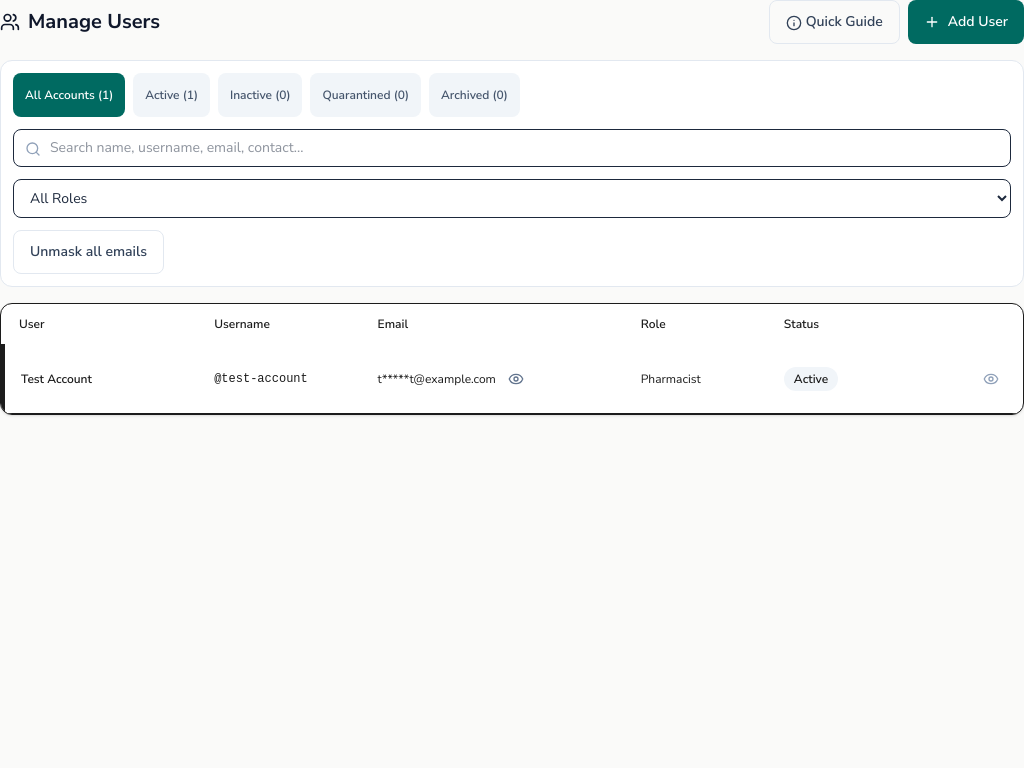
editing user roles from account details › opens the Pharmacist editor and preserves its role when saving account details
The width and height of the screenshot is (1024, 768).
Click the text "Test Account". click: (513, 378)
box: [3, 344, 1023, 412]
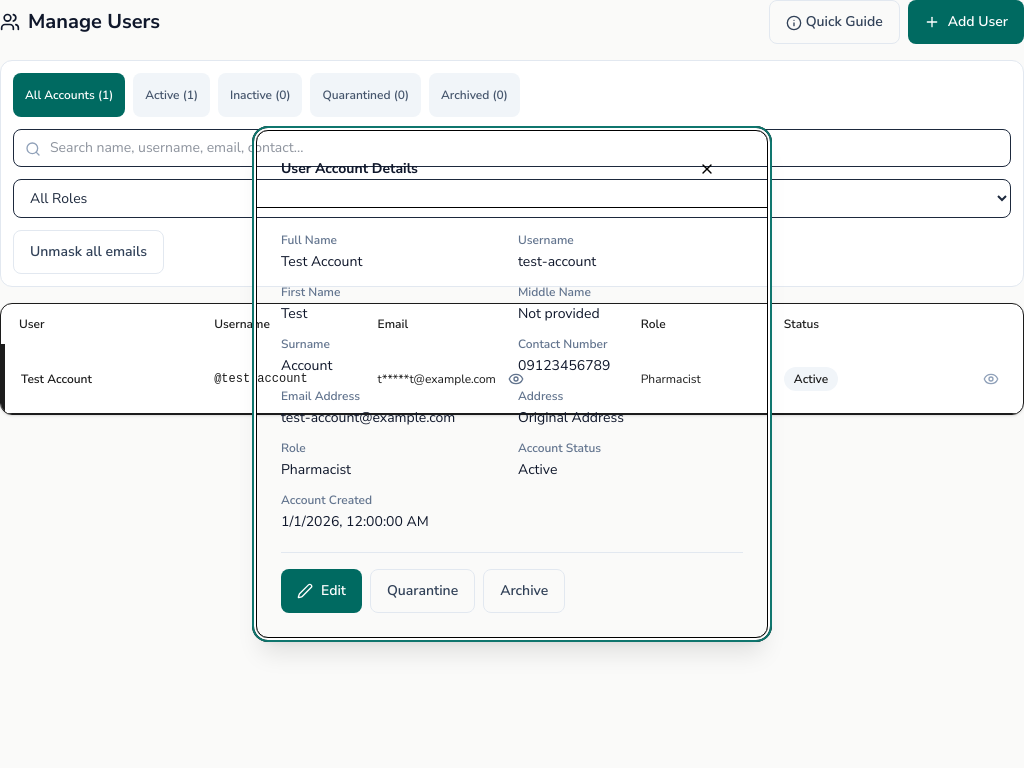
Click the button "Edit". click: (322, 591)
box: [281, 569, 362, 613]
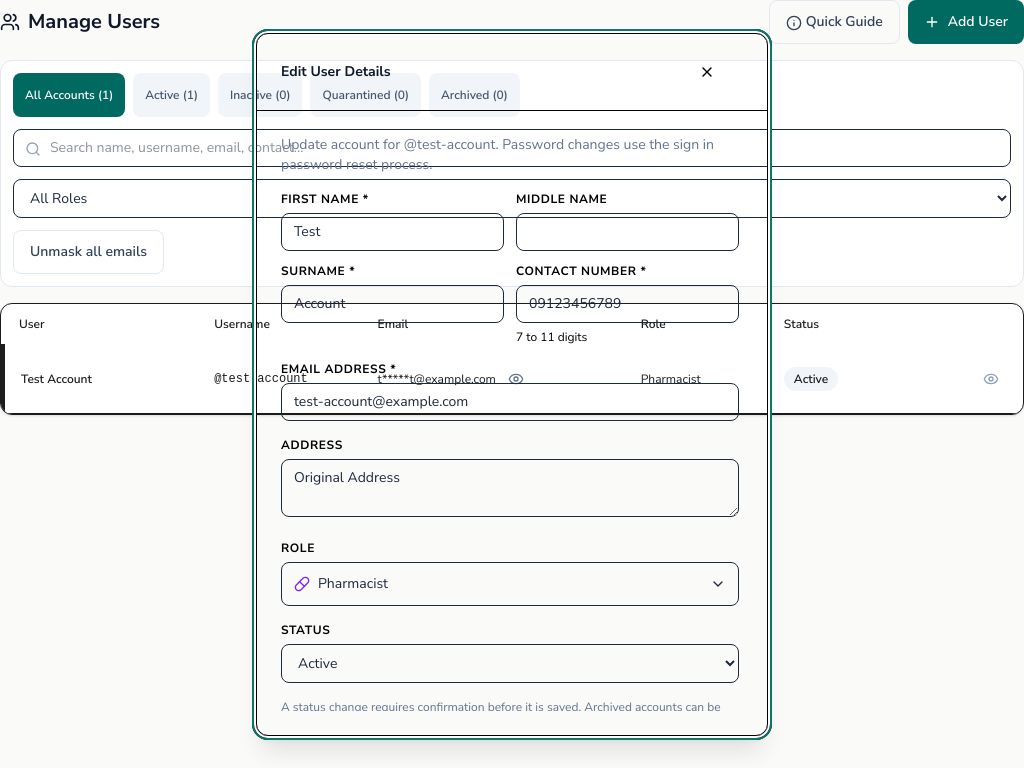
Now the button "Pharmacist" is shown, box [281, 562, 739, 606]
Now the heading "Edit User Details" is shown, box [281, 62, 390, 82]
Now the heading "User Account Details" is gone
Replace the text in the field labelled "First Name *" with "Updated". click: (392, 232)
box: [281, 212, 504, 250]
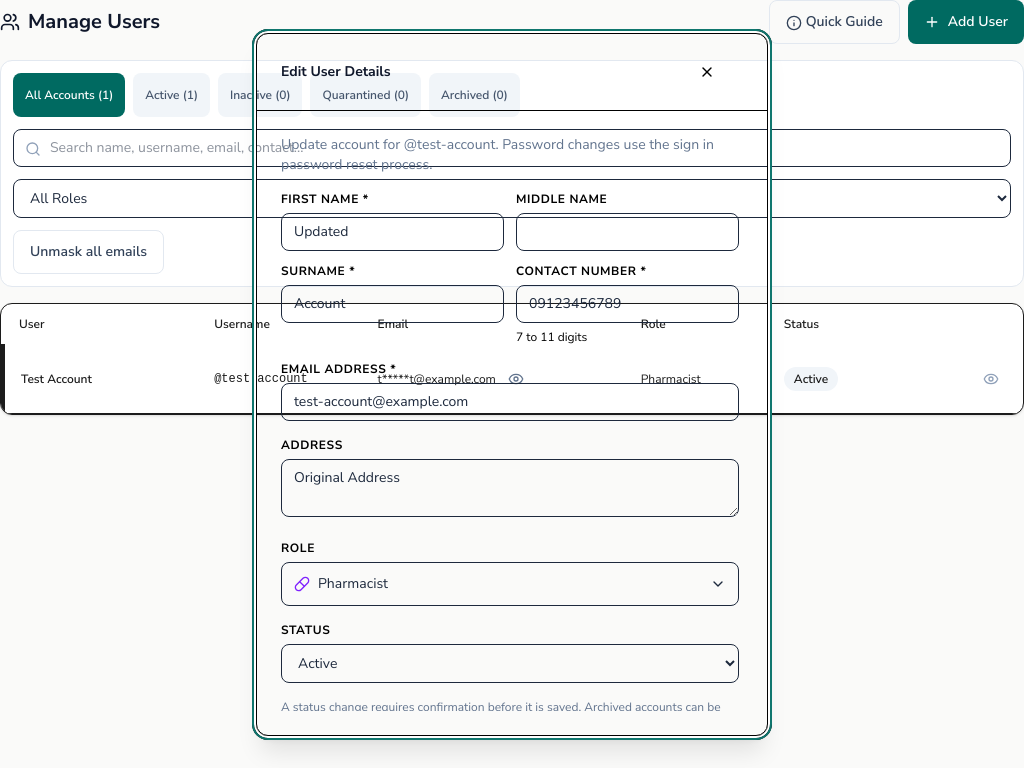
Replace the text in the field showing "test-account@example.com" with "updated@example.com". click: (510, 402)
box: [281, 382, 739, 420]
(page scrolled)
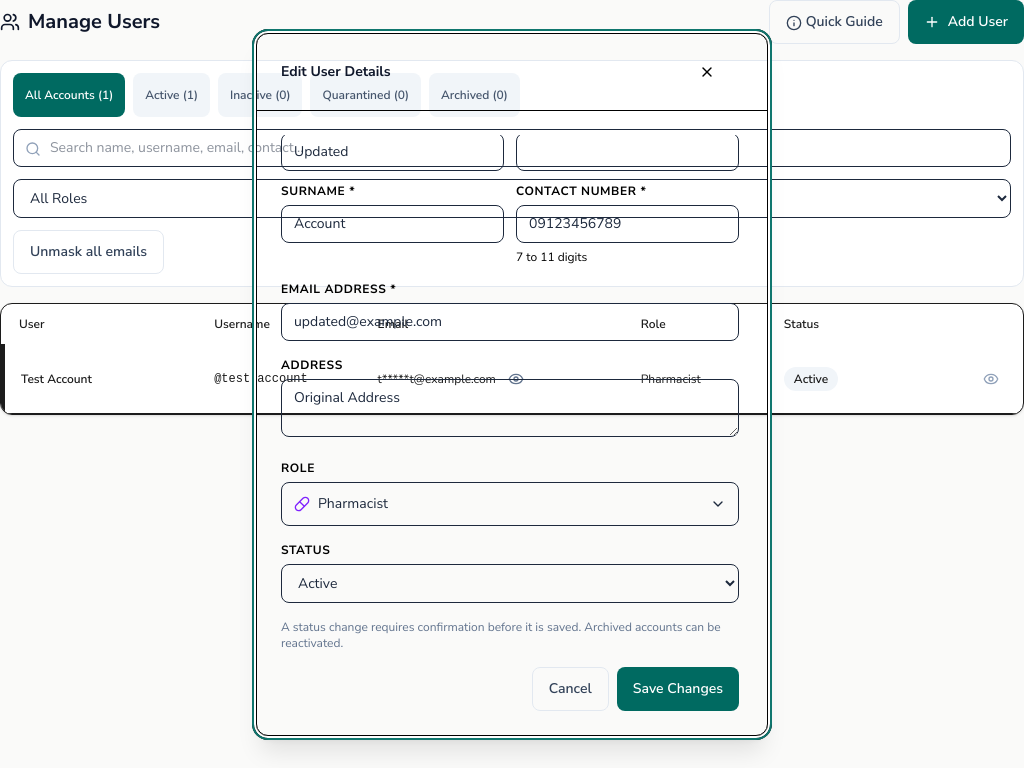
Click the button "Save Changes". click: (678, 688)
box: [617, 666, 739, 710]
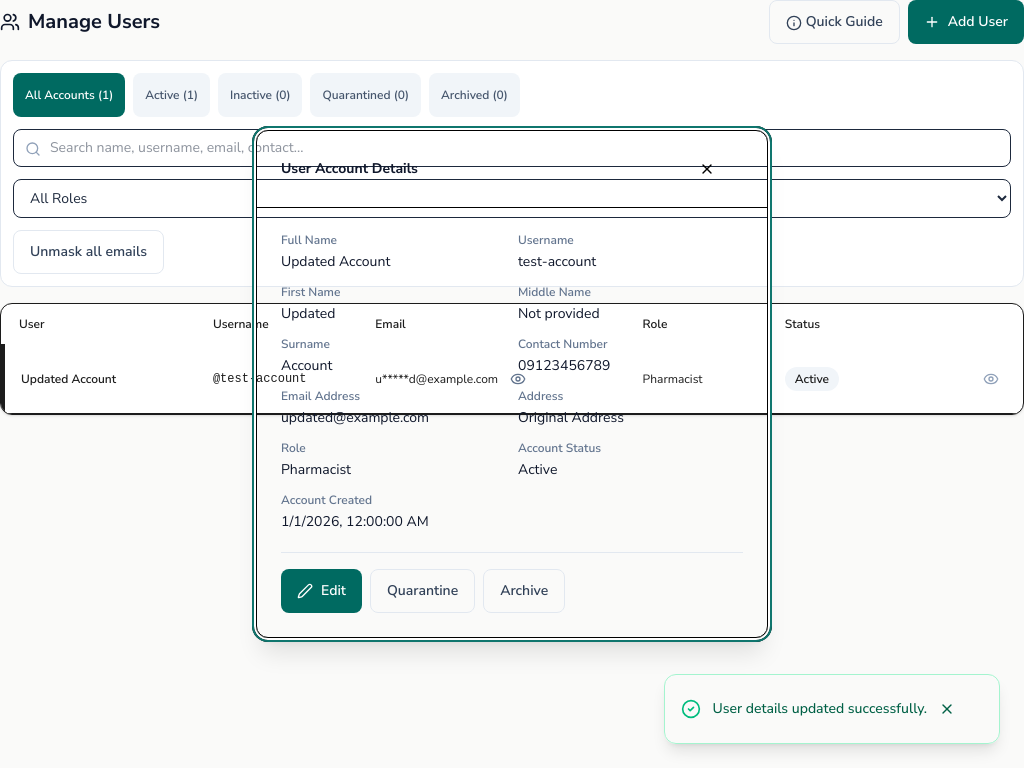
Now the heading "Edit User Details" is gone
